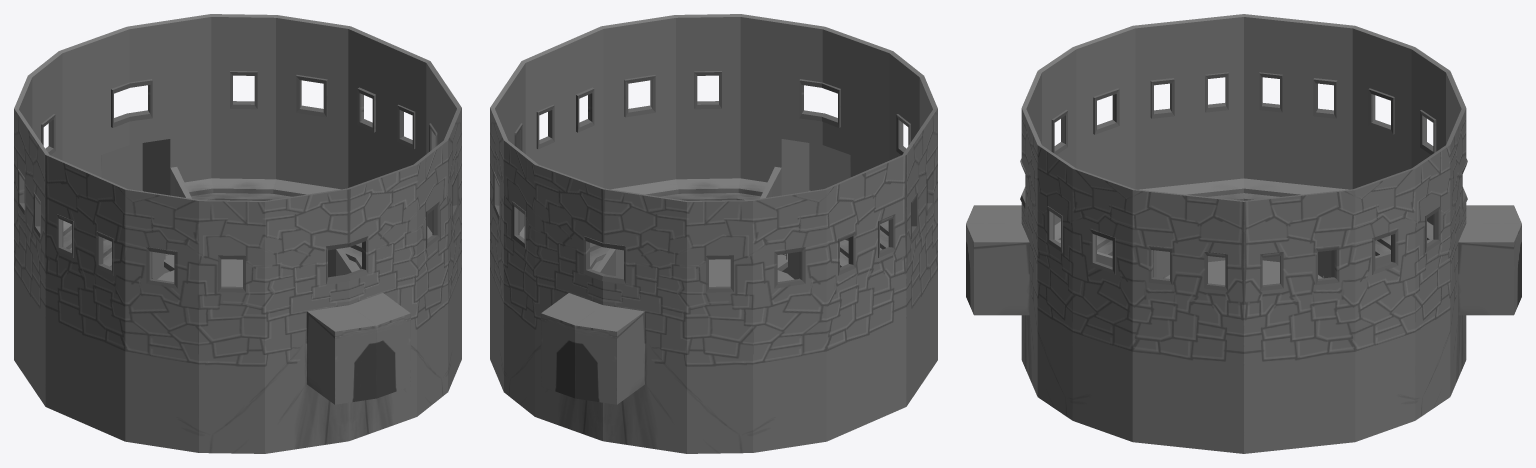
Rendered from Arena.fbx.
The picture shows the model from 3 angles, left to right: view 1: azimuth 30°, elevation 25°; view 2: azimuth 150°, elevation 25°; view 3: azimuth 270°, elevation 25°; orthographic projection.
Parts seen in each view (by area): view 1: Cube; view 2: Cube; view 3: Cube.
Boxes of the visible parts, x1,y1,x2,y2 form: Cube: (14, 14, 461, 453); Cube: (490, 14, 937, 453); Cube: (966, 14, 1521, 453).
Size of the model in its own units: 4387 by 2744 by 5485.
Materials: 1 (1 with a texture image).
